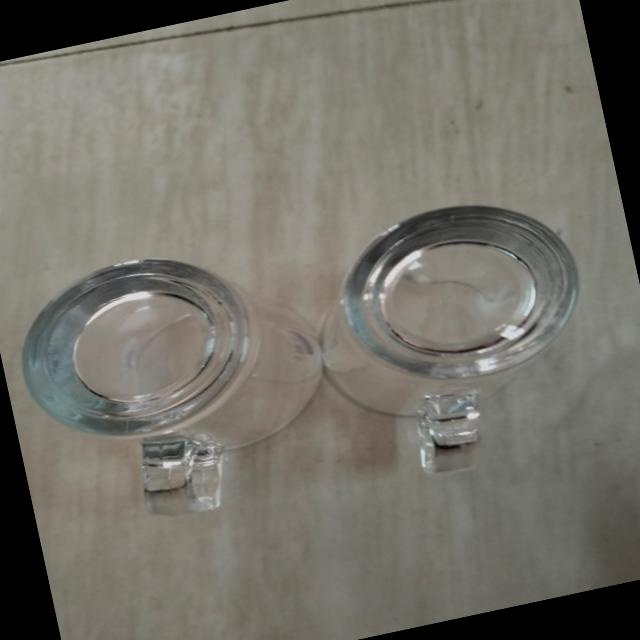glass-VX4N: (4, 226, 345, 544), (292, 180, 614, 494)
